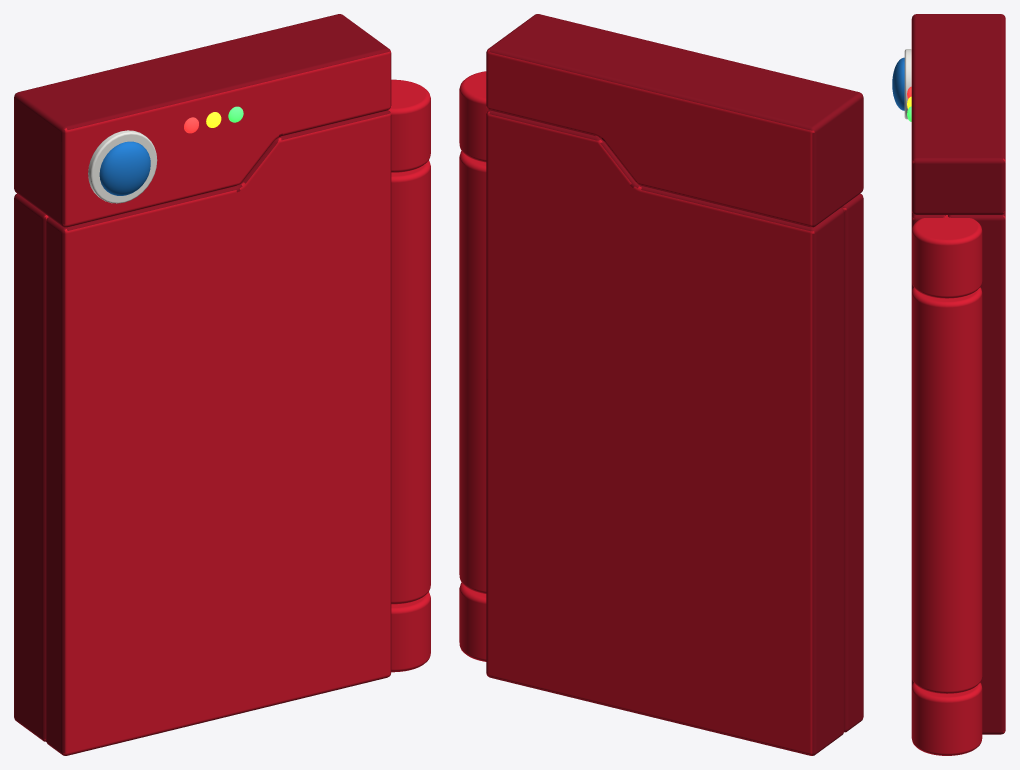
The model's file is pokedex-3x4.glb.
The picture shows the model from 3 angles, left to right: view 1: azimuth 30°, elevation 25°; view 2: azimuth 150°, elevation 25°; view 3: azimuth 270°, elevation 25°; orthographic projection. The views are drawn at different scales.
Parts seen in each view (by area): view 1: Cover, BodyTop, Hinge, Body, HingeTop, HingeBottom, Lens, LensRing; view 2: Body, BodyTop, Hinge, Cover, HingeTop, HingeBottom; view 3: Hinge, BodyTop, Body, HingeTop, HingeBottom, Lens, LensRing.
Part boxes in pixels (bbox=[...]): Cover: bbox=[46, 110, 391, 755]; BodyTop: bbox=[14, 14, 391, 227]; Hinge: bbox=[391, 160, 430, 604]; Body: bbox=[14, 193, 48, 741]; HingeTop: bbox=[388, 79, 430, 172]; HingeBottom: bbox=[391, 592, 430, 672]; Lens: bbox=[99, 141, 150, 195]; LensRing: bbox=[88, 130, 157, 203]; Body: bbox=[486, 110, 844, 755]; BodyTop: bbox=[486, 14, 863, 227]; Hinge: bbox=[459, 151, 486, 593]; Cover: bbox=[841, 193, 863, 732]; HingeTop: bbox=[459, 71, 488, 162]; HingeBottom: bbox=[459, 582, 486, 661]; Hinge: bbox=[911, 287, 982, 693]; BodyTop: bbox=[911, 14, 1005, 214]; Body: bbox=[948, 211, 1005, 734]; HingeTop: bbox=[911, 215, 982, 298]; HingeBottom: bbox=[911, 682, 982, 755]; Lens: bbox=[892, 57, 904, 110]; LensRing: bbox=[904, 49, 911, 119].
Bounding box in the file's own units: 0.103 × 0.1623 × 0.029.
